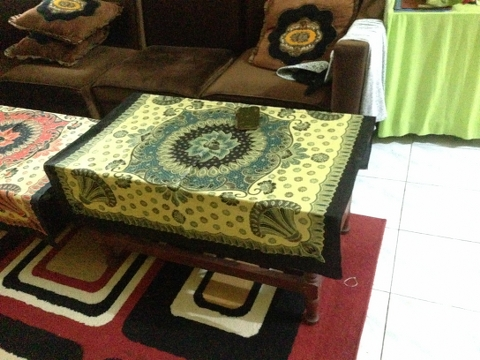meja: (44, 93, 375, 324)
